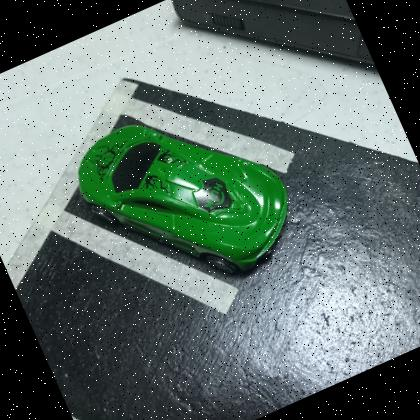Car: (78, 122, 289, 272)
